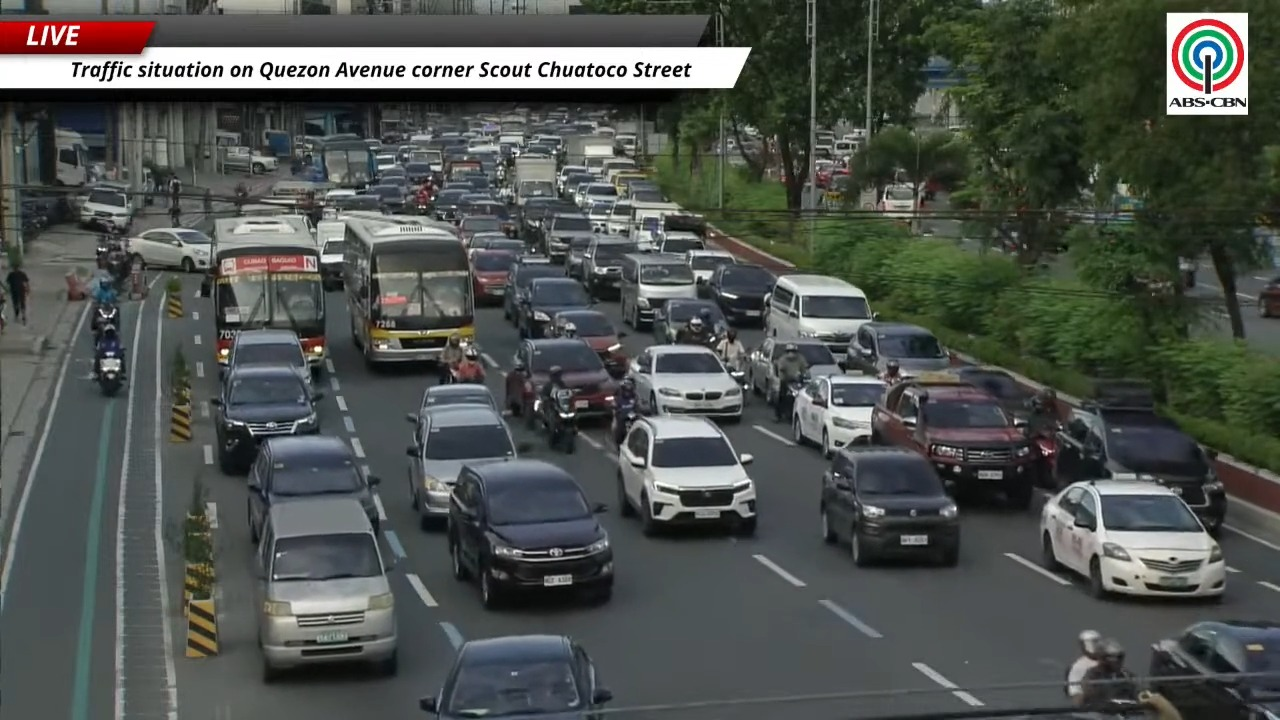bus: (342, 213, 474, 364), (201, 215, 325, 375), (309, 138, 376, 188)
car: (251, 498, 397, 683), (1054, 380, 1227, 533), (446, 459, 613, 608), (872, 375, 1038, 508), (1039, 481, 1226, 598), (820, 446, 960, 565), (617, 416, 756, 535), (419, 635, 612, 719), (407, 405, 528, 529), (247, 435, 379, 543), (1148, 620, 1279, 719), (210, 365, 322, 473), (504, 338, 616, 426), (628, 344, 743, 421), (792, 375, 885, 457), (746, 338, 844, 402), (846, 321, 950, 376), (553, 310, 628, 376), (220, 328, 311, 382), (517, 277, 595, 338), (699, 263, 775, 324), (949, 365, 1031, 417), (504, 256, 564, 325), (407, 383, 500, 424), (128, 227, 211, 272), (652, 298, 727, 343), (582, 236, 637, 296), (541, 213, 593, 262), (520, 197, 575, 243), (470, 250, 516, 303), (79, 187, 133, 230), (462, 200, 517, 236), (685, 249, 736, 284), (565, 236, 595, 282), (468, 232, 526, 254), (320, 236, 344, 289), (655, 230, 705, 255), (365, 184, 406, 213), (432, 187, 469, 219), (458, 215, 501, 241), (1257, 276, 1280, 318), (606, 200, 632, 235), (587, 198, 613, 231), (378, 169, 409, 192)
motorcycle: (534, 389, 578, 453), (1027, 425, 1057, 489), (775, 377, 808, 421), (97, 353, 123, 397), (90, 303, 119, 342), (104, 247, 131, 288), (610, 402, 638, 440), (719, 354, 747, 388), (448, 364, 485, 384), (95, 236, 111, 268)
truck: (629, 202, 683, 249), (512, 157, 556, 206), (54, 128, 89, 186), (564, 135, 613, 166), (221, 146, 277, 173), (582, 137, 615, 174)
